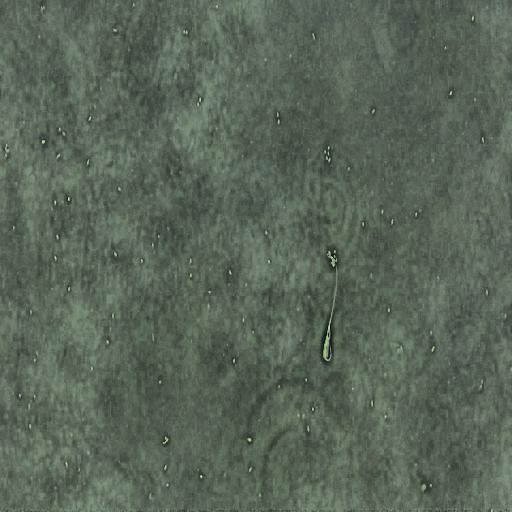coiled-tail: (327, 256, 337, 332), (325, 324, 332, 361)
dirt-particles: (327, 249, 336, 269)
normal: (321, 249, 340, 366)
